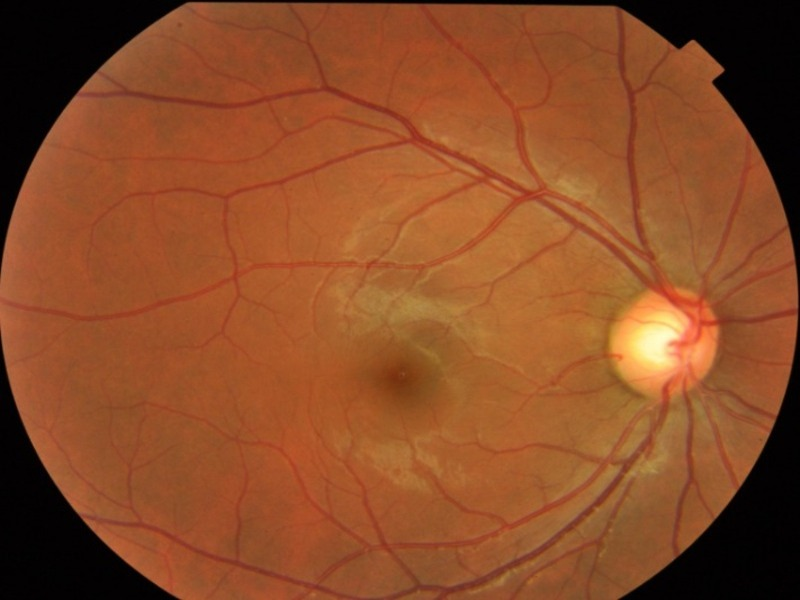Optic Cup: (633, 311, 678, 363)
Optic Disc: (610, 288, 717, 403)
